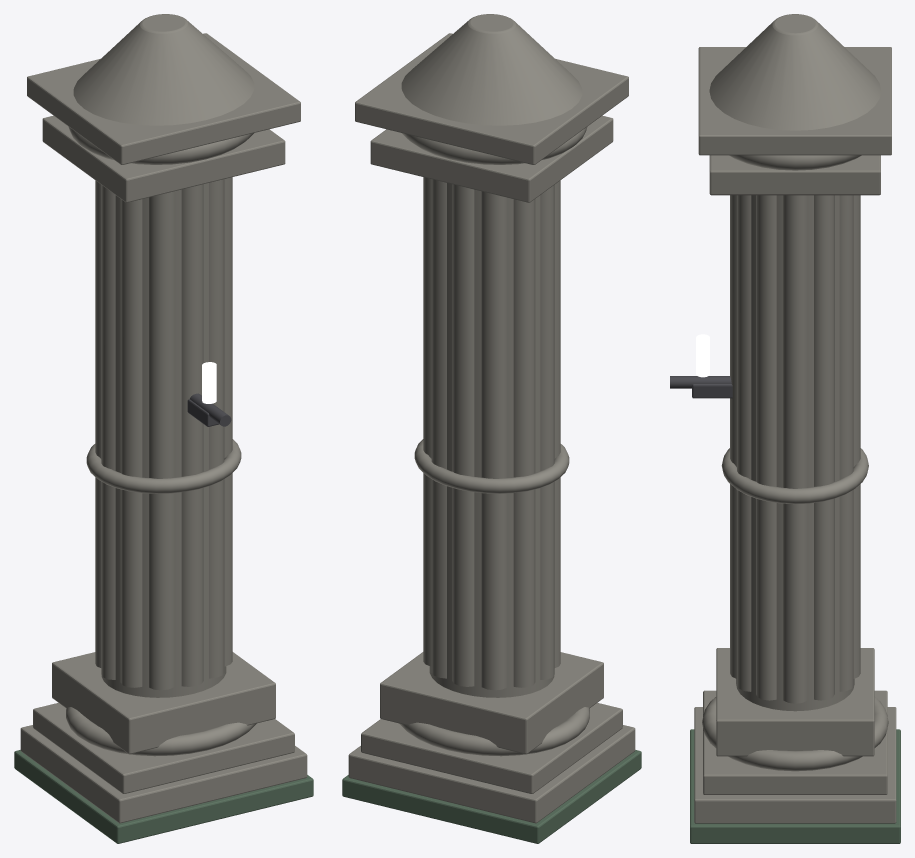
File: blender_s3_vaulted_pillar.glb
The picture shows the model from 3 angles, left to right: view 1: azimuth 30°, elevation 25°; view 2: azimuth 150°, elevation 25°; view 3: azimuth 270°, elevation 25°; orthographic projection.
Parts seen in each view (by area): view 1: Pillar_Shaft, Pillar_VaultSpringing, Pillar_Flute_8, Pillar_Base, Pillar_Flute_7, Pillar_Flute_9, Pillar_Capital1, Pillar_Plinth0, Pillar_Plinth1, Pillar_Capital0, Pillar_Flute_10, Pillar_Flute_6 (+7 smaller); view 2: Pillar_Shaft, Pillar_VaultSpringing, Pillar_Flute_4, Pillar_Base, Pillar_Flute_3, Pillar_Flute_5, Pillar_Capital1, Pillar_Plinth0, Pillar_Plinth1, Pillar_Flute_2, Pillar_Capital0, Pillar_Flute_6 (+6 smaller); view 3: Pillar_VaultSpringing, Pillar_Shaft, Pillar_Flute_0, Pillar_Flute_11, Pillar_Flute_1, Pillar_Base, Pillar_Capital1, Pillar_Plinth0, Pillar_Flute_10, Pillar_Flute_2, Pillar_Plinth1, Pillar_Capital0 (+9 smaller).
Part boxes in pixels (bbox=[...]): Pillar_Shaft: bbox=[101, 179, 226, 697]; Pillar_VaultSpringing: bbox=[73, 14, 254, 125]; Pillar_Flute_8: bbox=[149, 191, 174, 690]; Pillar_Base: bbox=[52, 652, 275, 754]; Pillar_Flute_7: bbox=[120, 199, 142, 687]; Pillar_Flute_9: bbox=[181, 184, 203, 686]; Pillar_Capital1: bbox=[27, 33, 300, 164]; Pillar_Plinth0: bbox=[20, 725, 307, 823]; Pillar_Plinth1: bbox=[33, 703, 294, 793]; Pillar_Capital0: bbox=[42, 115, 285, 202]; Pillar_Flute_10: bbox=[209, 179, 224, 678]; Pillar_Flute_6: bbox=[101, 185, 115, 679]; Pillar_Shaft: bbox=[429, 179, 554, 697]; Pillar_VaultSpringing: bbox=[401, 14, 582, 125]; Pillar_Flute_4: bbox=[481, 191, 506, 690]; Pillar_Base: bbox=[380, 652, 603, 754]; Pillar_Flute_3: bbox=[452, 184, 474, 686]; Pillar_Flute_5: bbox=[513, 199, 535, 687]; Pillar_Capital1: bbox=[355, 33, 628, 164]; Pillar_Plinth0: bbox=[348, 725, 635, 823]; Pillar_Plinth1: bbox=[361, 703, 622, 793]; Pillar_Flute_2: bbox=[431, 179, 446, 678]; Pillar_Capital0: bbox=[370, 115, 613, 202]; Pillar_Flute_6: bbox=[540, 185, 554, 679]; Pillar_VaultSpringing: bbox=[709, 14, 881, 130]; Pillar_Shaft: bbox=[736, 195, 854, 711]; Pillar_Flute_0: bbox=[783, 195, 807, 703]; Pillar_Flute_11: bbox=[756, 195, 776, 700]; Pillar_Flute_1: bbox=[814, 195, 834, 700]; Pillar_Base: bbox=[716, 648, 874, 756]; Pillar_Capital1: bbox=[698, 47, 891, 155]; Pillar_Plinth0: bbox=[694, 707, 896, 823]; Pillar_Flute_10: bbox=[737, 195, 751, 691]; Pillar_Flute_2: bbox=[839, 195, 853, 691]; Pillar_Plinth1: bbox=[703, 690, 887, 794]; Pillar_Capital0: bbox=[709, 155, 880, 195].
Bounding box in the file's own units: 1.03 × 3.79 × 1.03.
